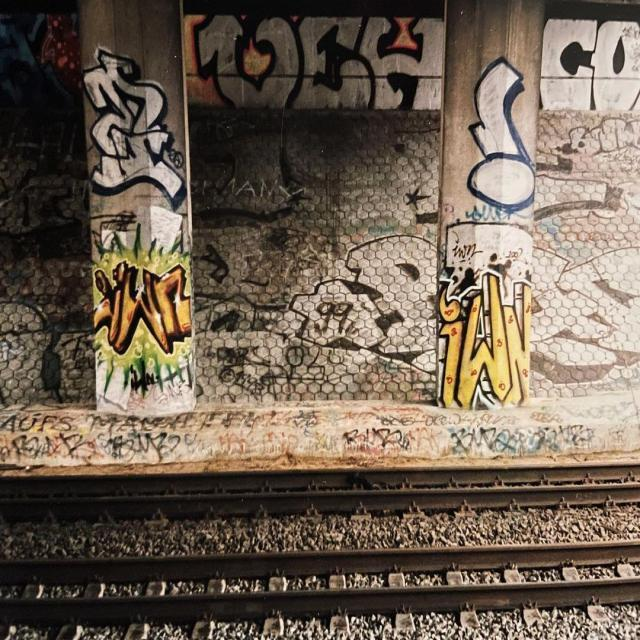nonspitting: (287, 232, 640, 383), (0, 286, 288, 400), (193, 8, 443, 104), (89, 235, 199, 393), (0, 411, 319, 463), (88, 50, 182, 201), (433, 264, 525, 402), (538, 7, 640, 111), (469, 57, 531, 210), (447, 419, 597, 453), (336, 428, 412, 451)
